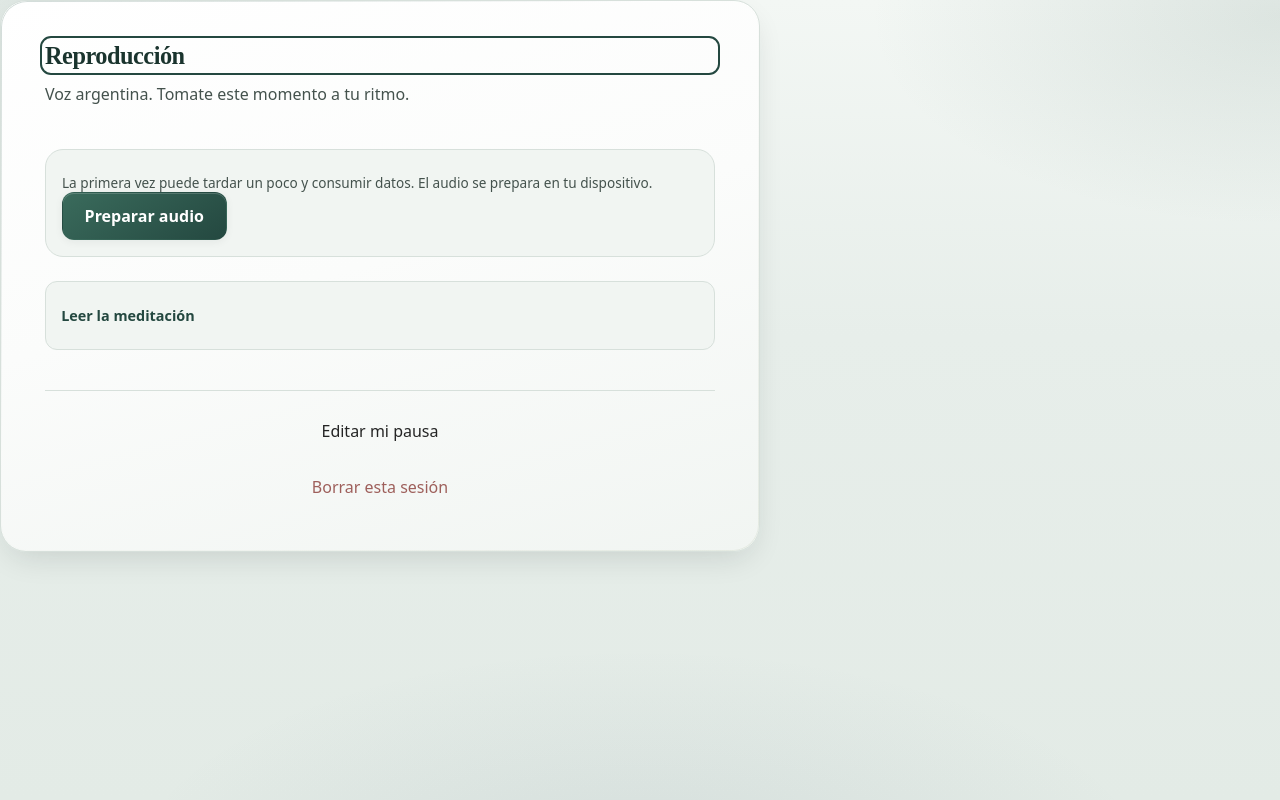
Test: PlaybackStep — voz sencilla y consentimiento › shows a simple error and requires an explicit choice before changing the voice
Click the button "Preparar audio": (144, 216) [62,192,227,240]
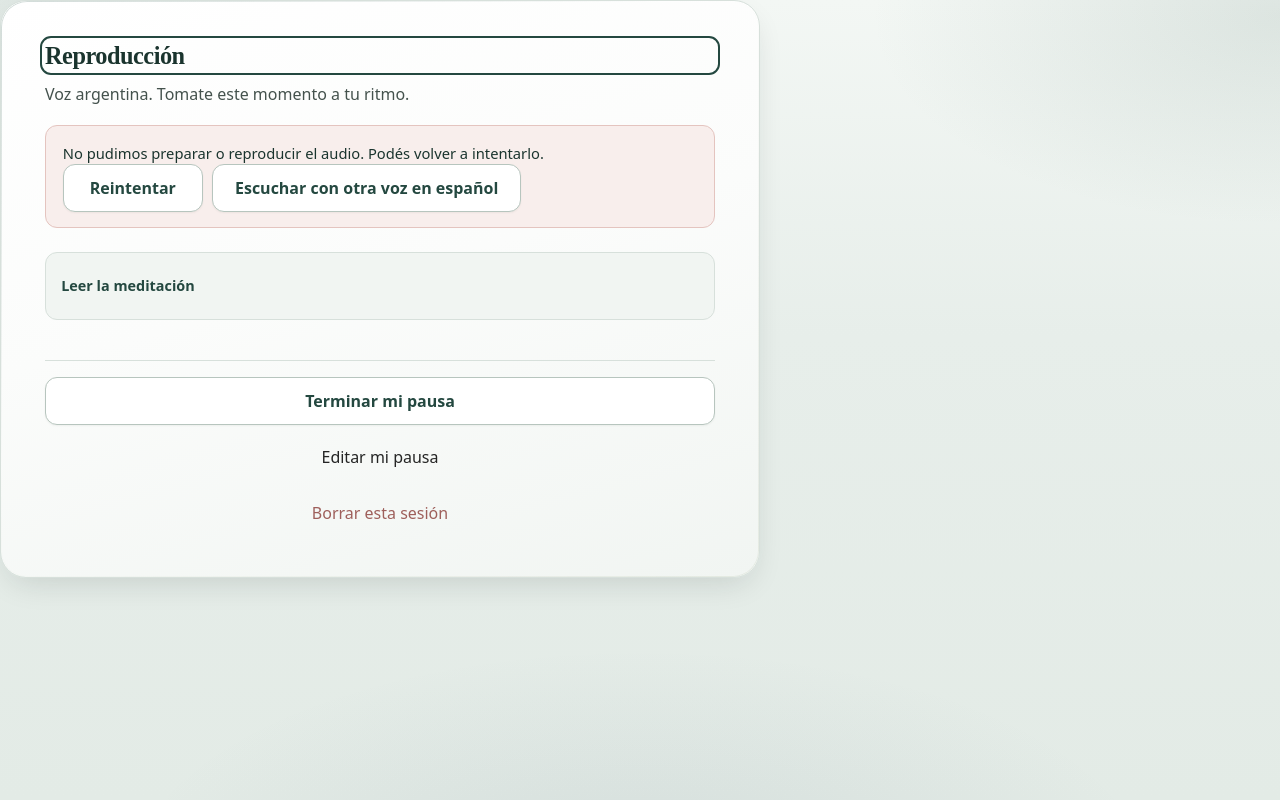
expect the text "No pudimos preparar o reproducir" is shown: met, box [63,142,544,162]
Click the button "Escuchar con otra voz en español": (367, 188) [212,164,521,212]
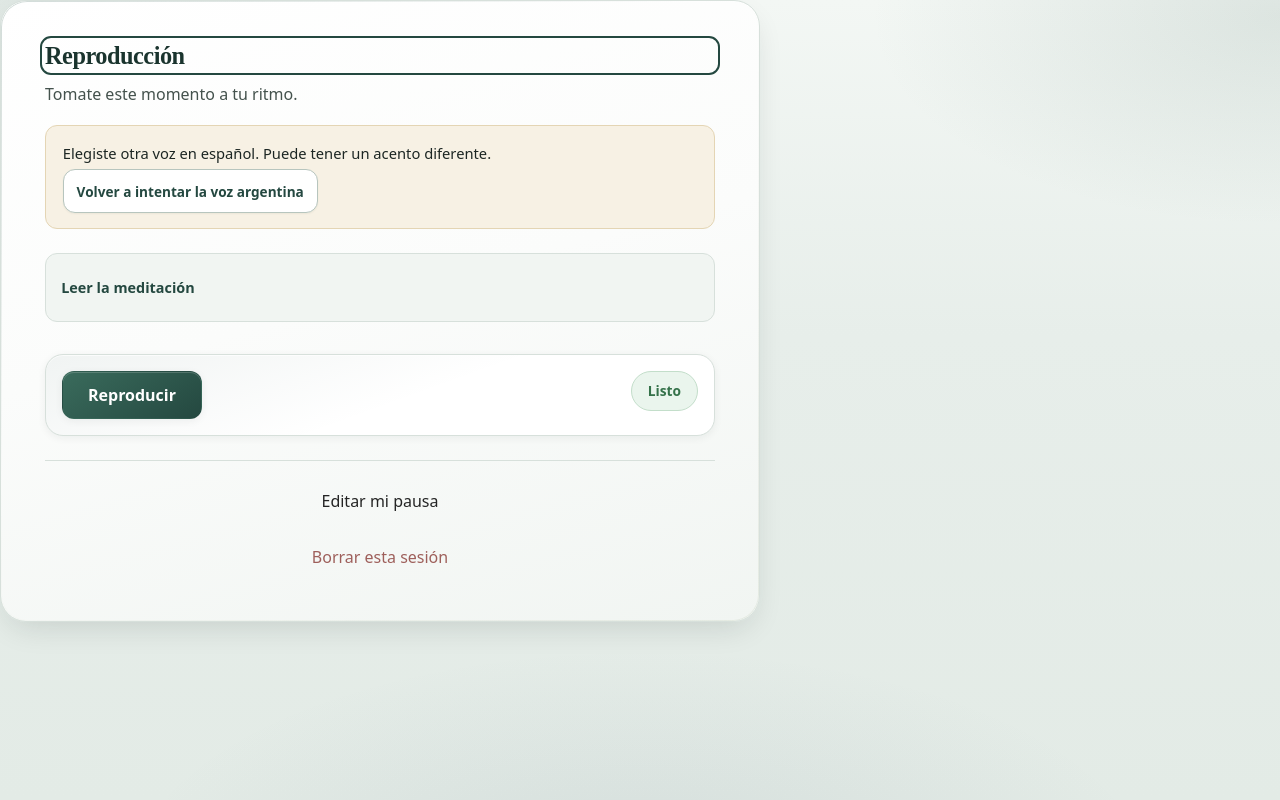
expect the button "Reproducir" is shown: met, box [62,371,202,419]
expect the text "Elegiste otra voz" is shown: met, box [63,142,491,162]
